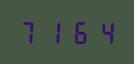four: (90, 20, 113, 44)
one: (42, 20, 65, 44)
seven: (18, 20, 41, 44)
six: (66, 20, 89, 44)
